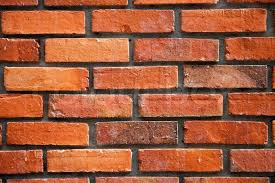brick: (48, 93, 135, 120), (47, 147, 134, 174), (44, 37, 130, 64), (134, 37, 220, 63), (179, 8, 267, 33), (136, 148, 224, 173), (94, 120, 178, 146), (182, 64, 269, 89), (182, 119, 268, 144), (5, 122, 90, 147), (3, 66, 90, 90), (137, 93, 224, 117), (90, 9, 176, 33), (93, 66, 179, 90), (1, 11, 86, 34), (223, 35, 275, 62), (229, 147, 275, 174), (226, 91, 275, 116), (1, 148, 45, 174), (1, 94, 46, 119), (1, 38, 40, 62)
